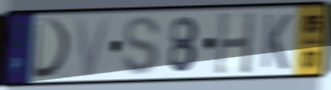8: (168, 15, 199, 74)
D: (31, 17, 74, 81)
H: (213, 10, 257, 77)
K: (259, 12, 293, 72)
S: (121, 14, 163, 78)
V: (73, 15, 113, 79)
